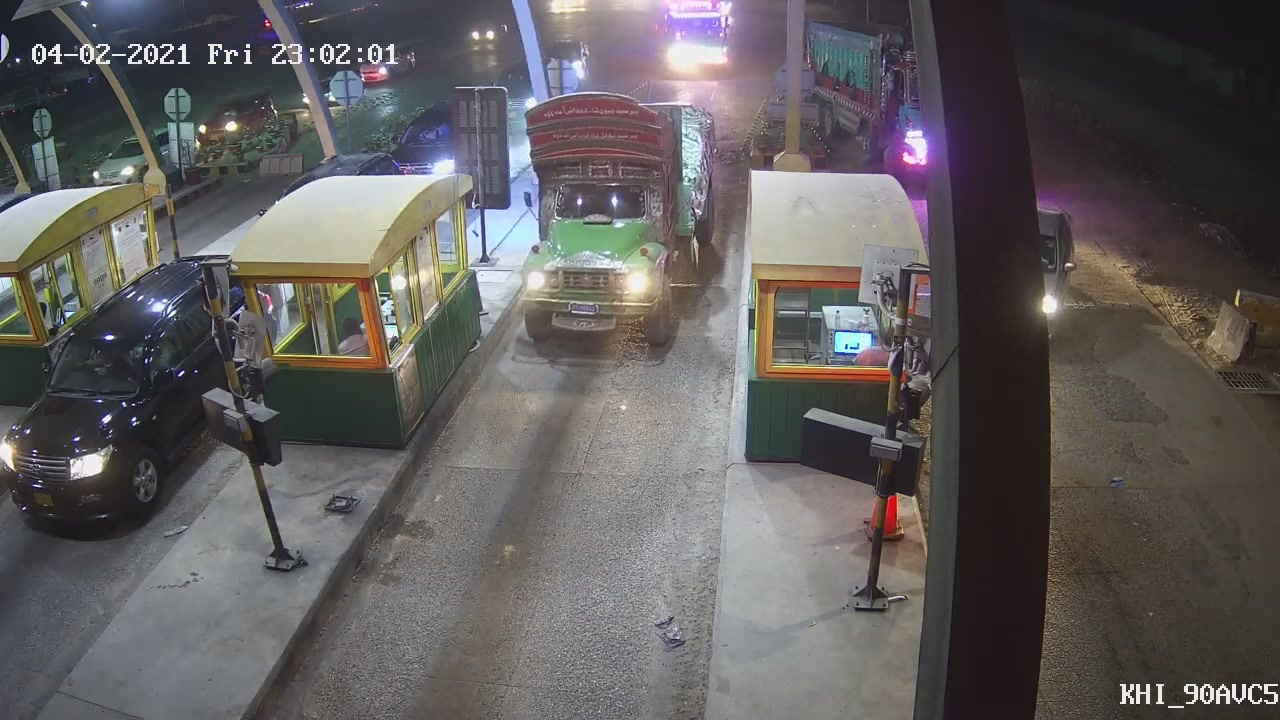F5: (503, 93, 695, 361)
